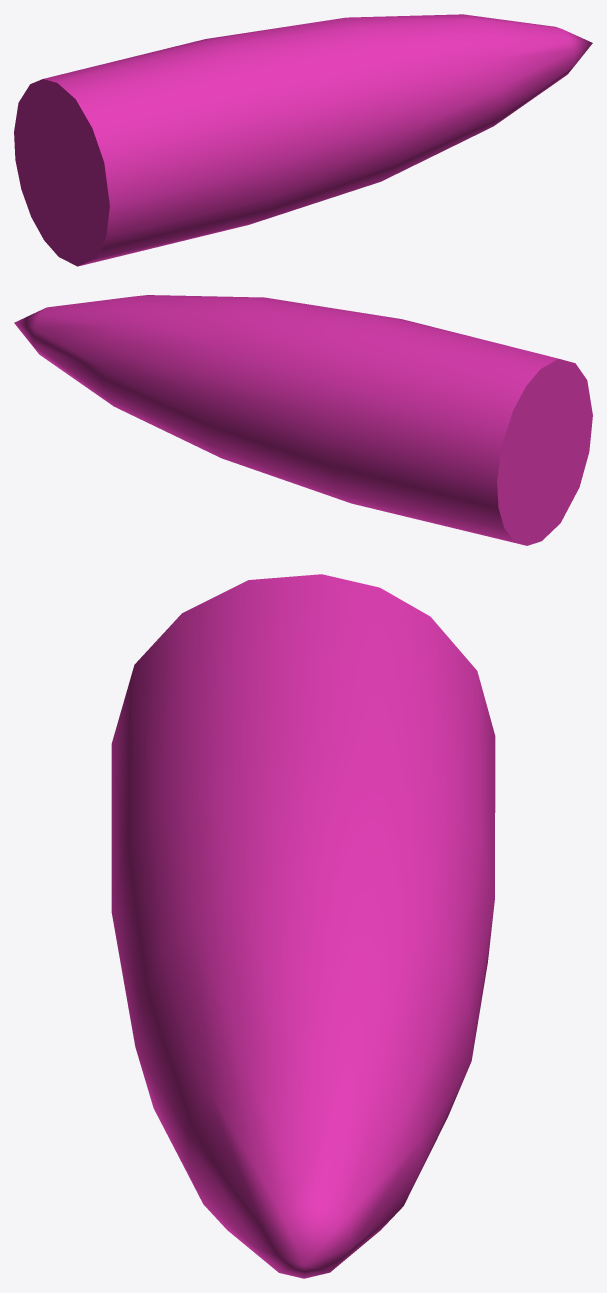
Rendered from bala_antimateria.obj.
3 views of the same model, one above another, from view 1: azimuth 30°, elevation 25°; view 2: azimuth 150°, elevation 25°; view 3: azimuth 270°, elevation 25° (orthographic). The views are drawn at different scales.
Bounding box in the file's own units: 0.1004 × 0.0313 × 0.0314.
